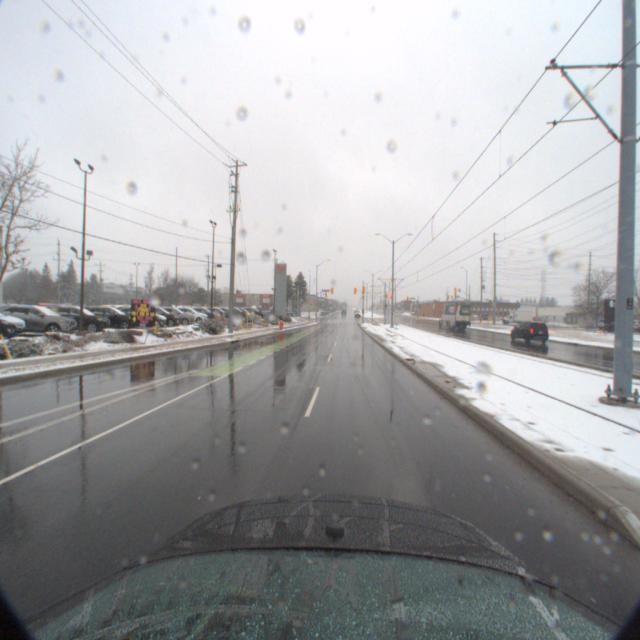Car: (31, 296, 111, 328), (72, 298, 138, 326), (107, 298, 166, 323), (128, 298, 180, 322), (511, 316, 559, 342), (146, 299, 194, 319), (165, 300, 207, 318)
Truck: (438, 294, 474, 323), (502, 304, 536, 319)
